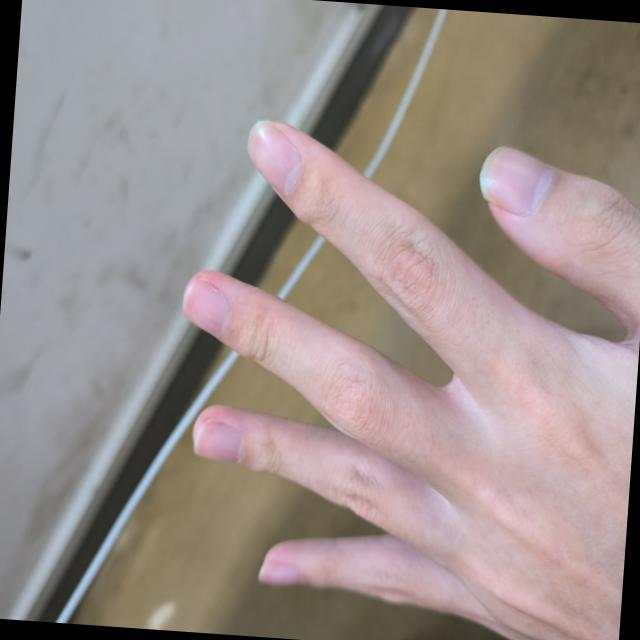Nail: (479, 144, 553, 215), (247, 119, 301, 194), (182, 277, 229, 335), (194, 417, 243, 461), (257, 559, 302, 583)
